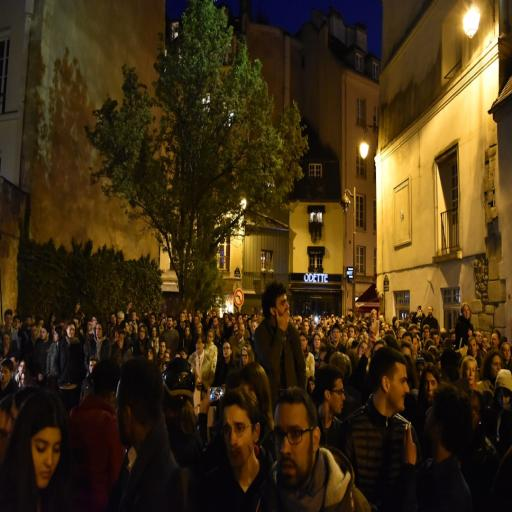face: (274, 402, 312, 493), (33, 428, 63, 490), (221, 411, 252, 471), (394, 366, 409, 414), (421, 371, 437, 402), (332, 382, 345, 414), (280, 292, 290, 324), (241, 349, 250, 366), (222, 342, 231, 358), (95, 324, 102, 340), (333, 329, 340, 342), (196, 340, 203, 353), (138, 327, 145, 340), (300, 335, 306, 350), (314, 336, 320, 348), (238, 326, 244, 338), (167, 318, 172, 329), (160, 343, 164, 355)
